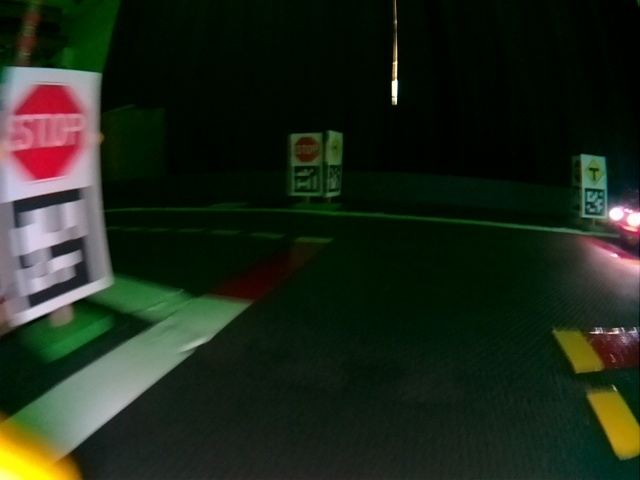Duckiebot: (611, 198, 640, 246)
Intersection sign: (585, 158, 605, 183), (330, 135, 340, 162)
QR code: (12, 197, 92, 309), (583, 189, 607, 218), (293, 167, 319, 192), (329, 164, 341, 192)
Stop sign: (6, 77, 98, 184), (295, 136, 320, 163)
